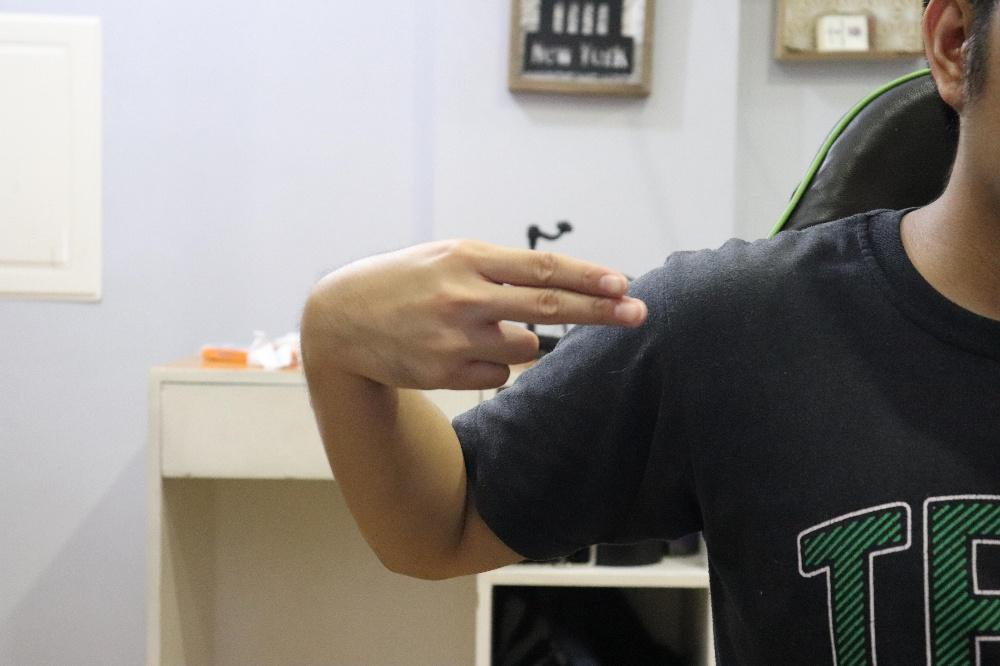h: (301, 236, 648, 389)
